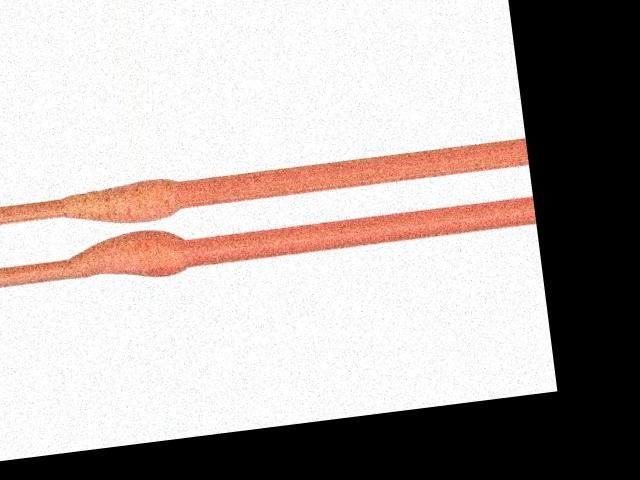sweet_potato: (63, 177, 182, 232)
